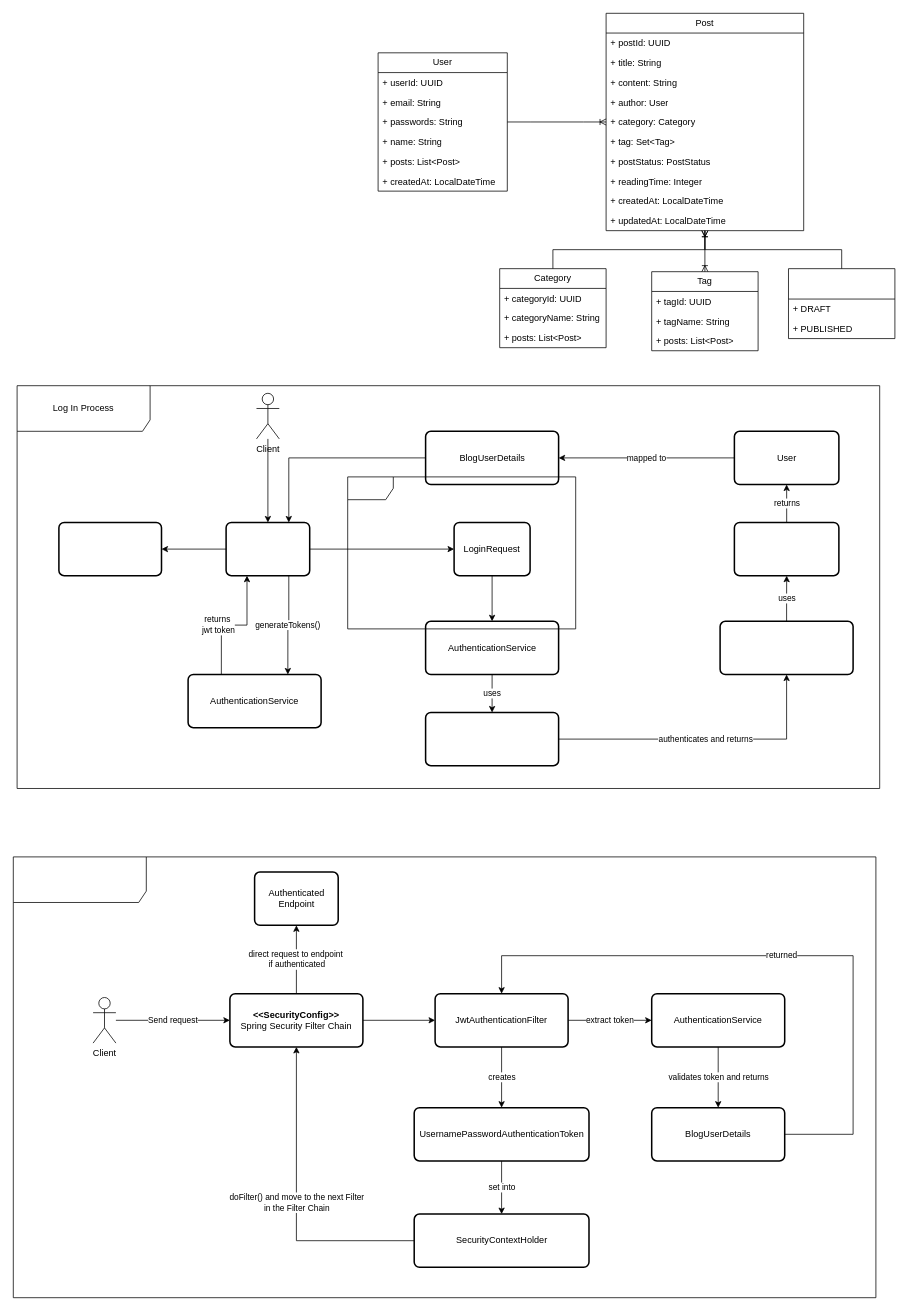
This 908x1311 diagram has some shape labels left out. The shapes that lost their labels are listed below. From the top down, each one's box as (x1, y1, x2, y2) in pixels, then its label:
(788, 268, 895, 339): <<enum>> PostStatus
(58, 521, 162, 576): AuthResponse
(225, 521, 310, 576): Log In Endpoint
(347, 476, 576, 629): frame
(733, 521, 839, 576): UserRepository
(719, 620, 853, 675): BlogUserDetailsService
(424, 711, 559, 766): AuthenticationManager
(13, 856, 876, 1298): Authorization Process
